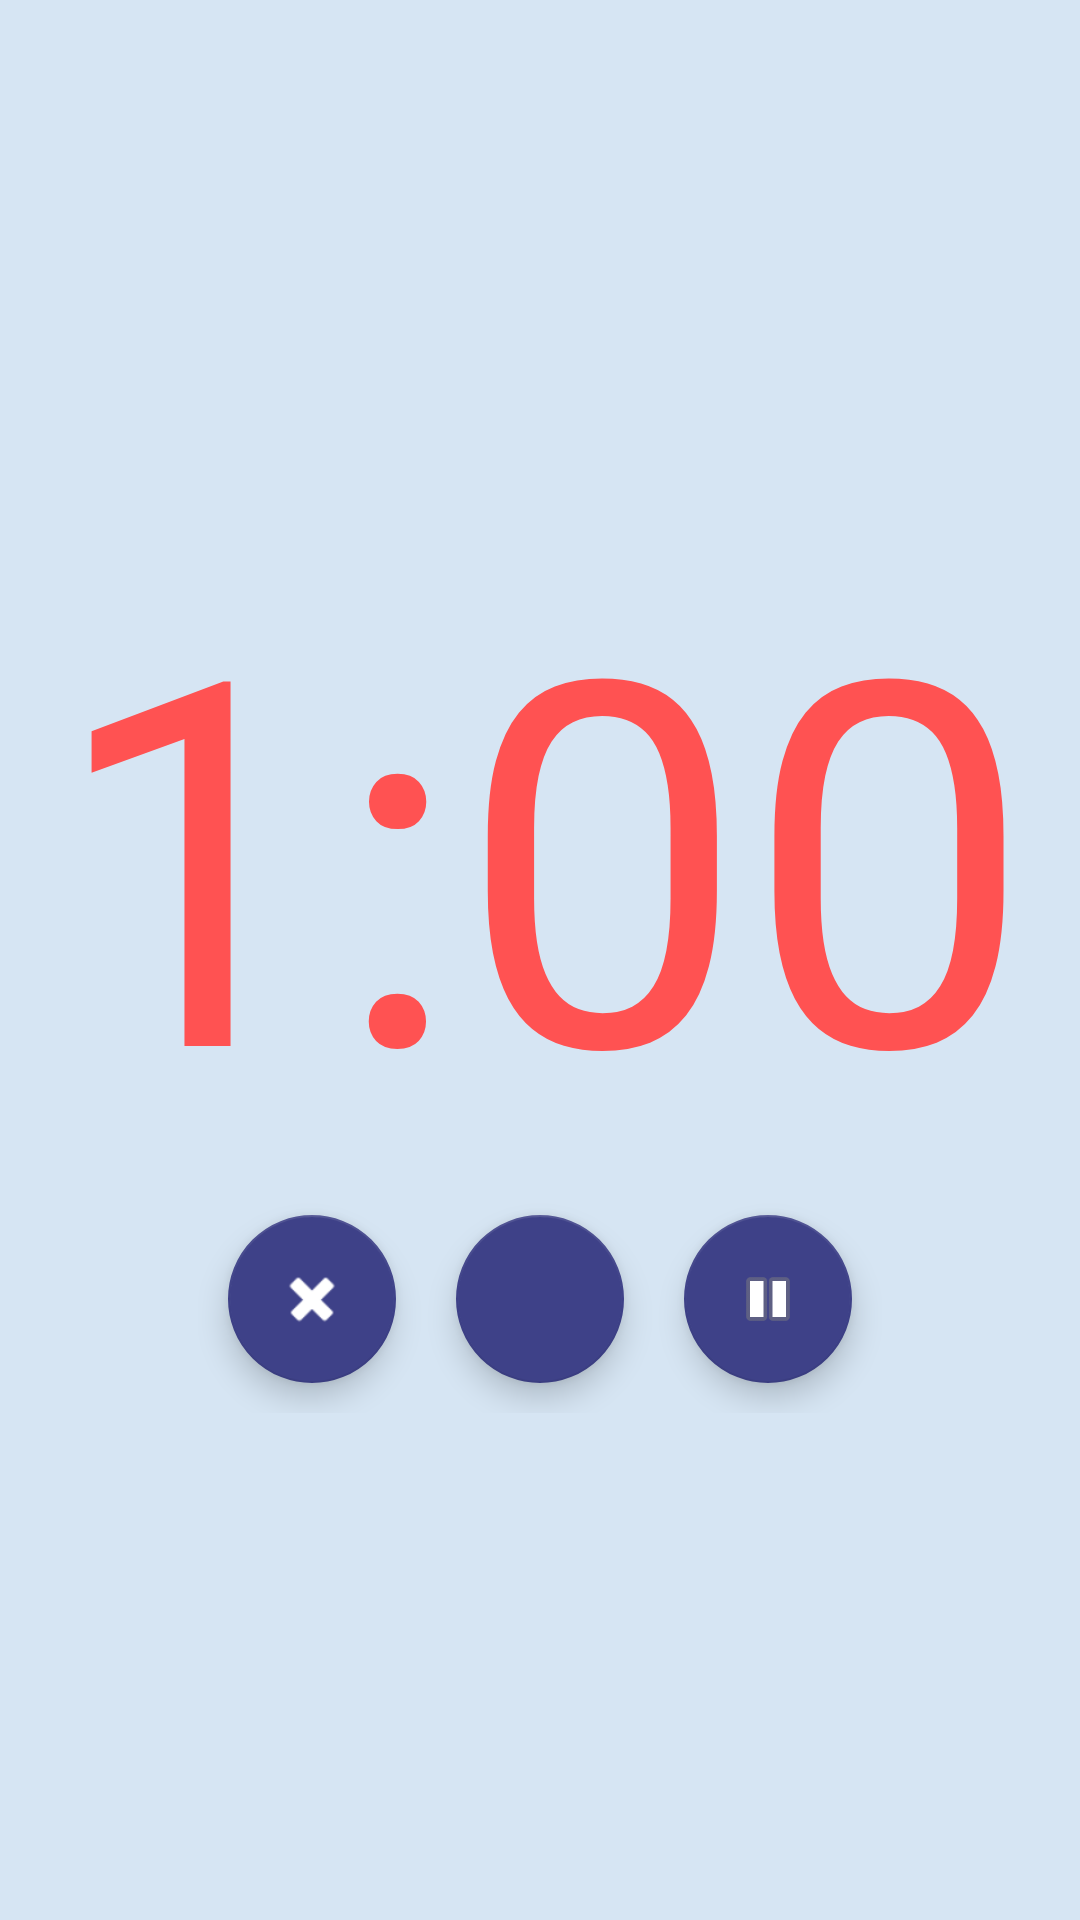

Where icons sit on this 1080x1920 app screen, as bbox=[x1, y1, x2, y2]:
delete: bbox=[228, 1215, 396, 1383]
pause: bbox=[684, 1215, 852, 1383]
